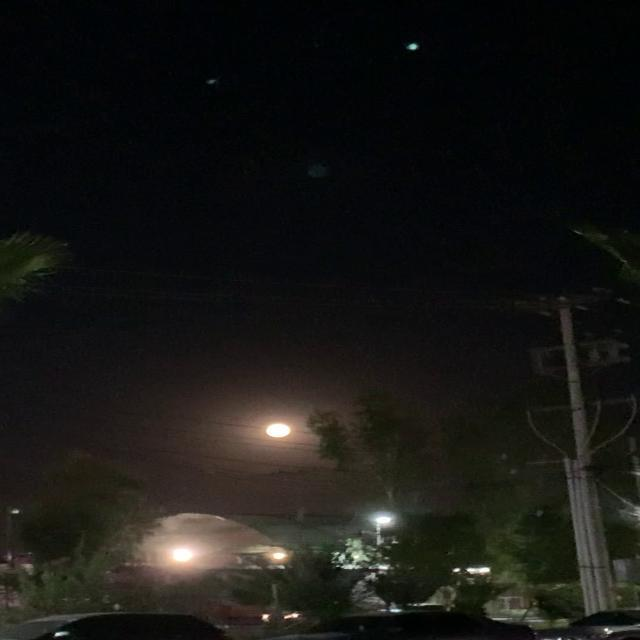moon: (258, 411, 310, 437)
